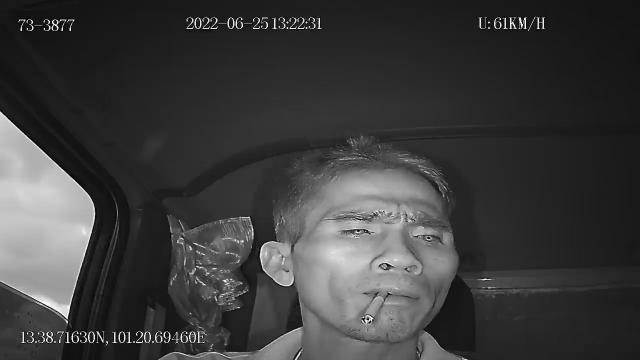SafeDriving: (404, 224, 450, 248), (332, 219, 380, 242)
Smoking: (363, 290, 387, 324)
